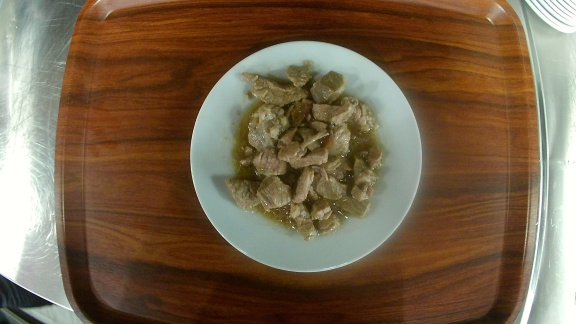etsote: (189, 40, 424, 275)
